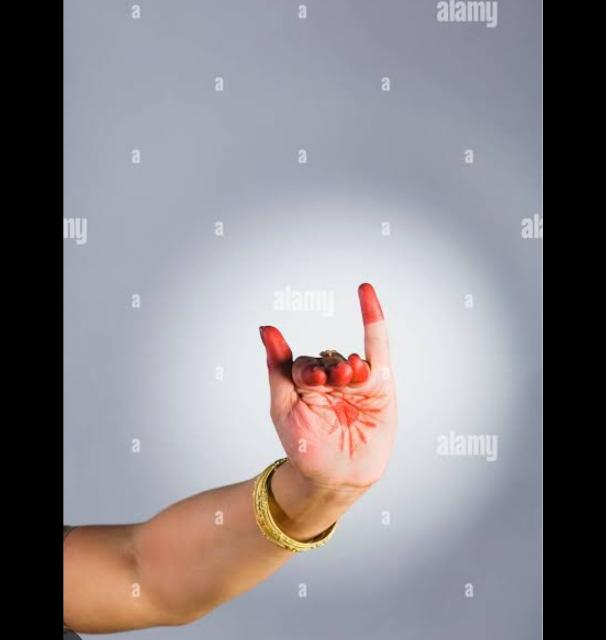mrighasheesh: (67, 287, 400, 634)
